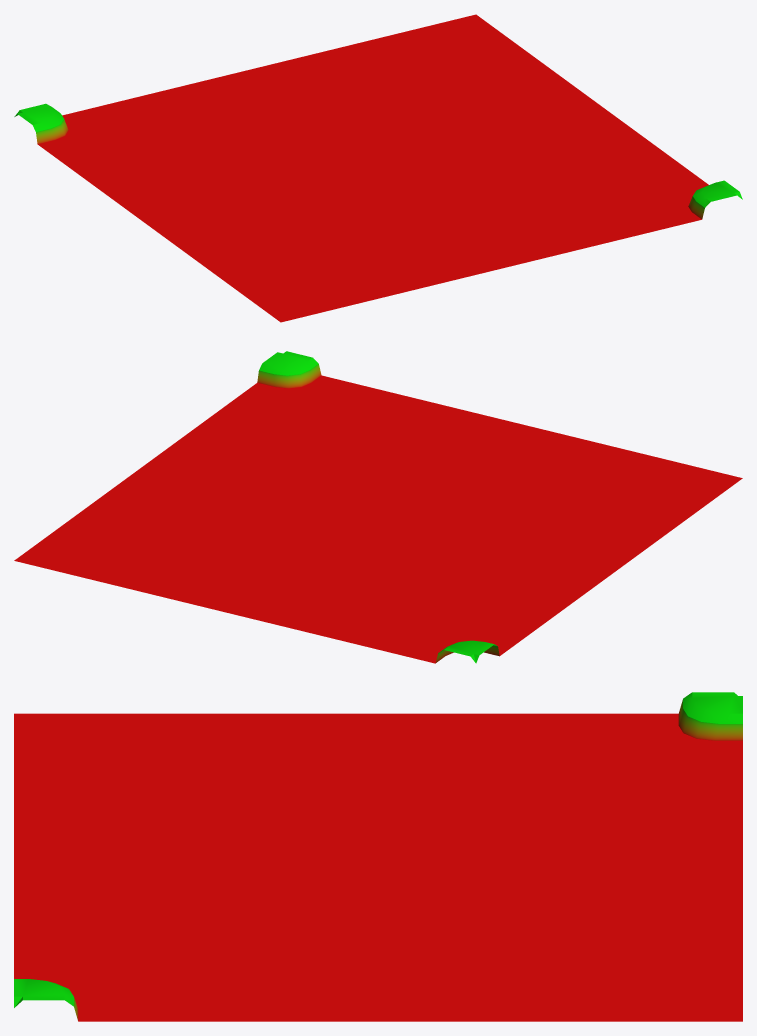
The model's file is WideRoadB_DoubleCorner.fbx.
3 views of the same model, one above another, from view 1: azimuth 30°, elevation 25°; view 2: azimuth 150°, elevation 25°; view 3: azimuth 270°, elevation 25° (orthographic). The views are drawn at different scales.
Parts seen in each view (by area): view 1: WideRoadB_DoubleCorner; view 2: WideRoadB_DoubleCorner; view 3: WideRoadB_DoubleCorner.
Boxes of the visible parts, x1,y1,x2,y2 form: WideRoadB_DoubleCorner: (14,14,742,322); WideRoadB_DoubleCorner: (14,351,742,663); WideRoadB_DoubleCorner: (14,692,742,1021).
Size of the model in its own units: 2 by 2 by 0.065.
